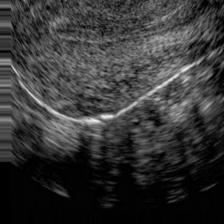no-pcos: (13, 0, 221, 192)
